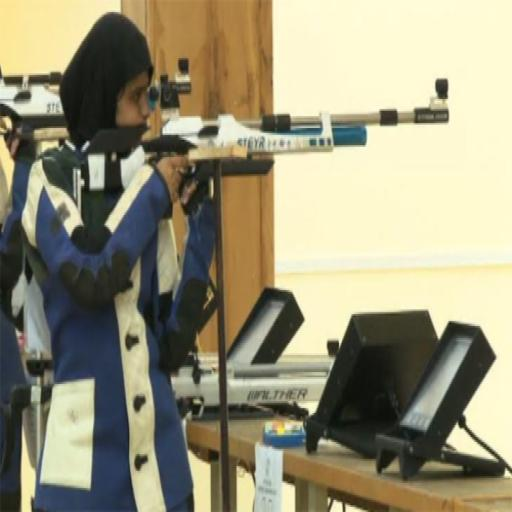shooting: (21, 10, 219, 510)
